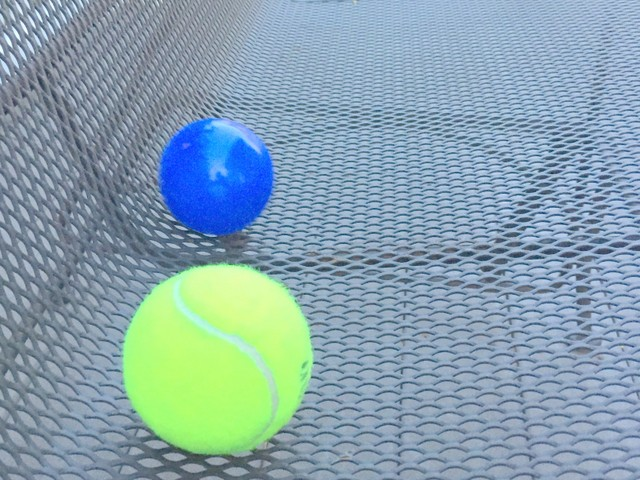ball: (159, 118, 278, 237)
